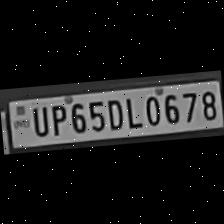0: (140, 92, 162, 125)
5: (84, 97, 106, 132)
6: (65, 98, 87, 134), (159, 90, 181, 124)
7: (178, 88, 198, 122)
8: (196, 86, 219, 121)
D: (102, 95, 124, 129)
L: (120, 94, 142, 128)
P: (46, 100, 68, 136)
U: (26, 103, 48, 136)
